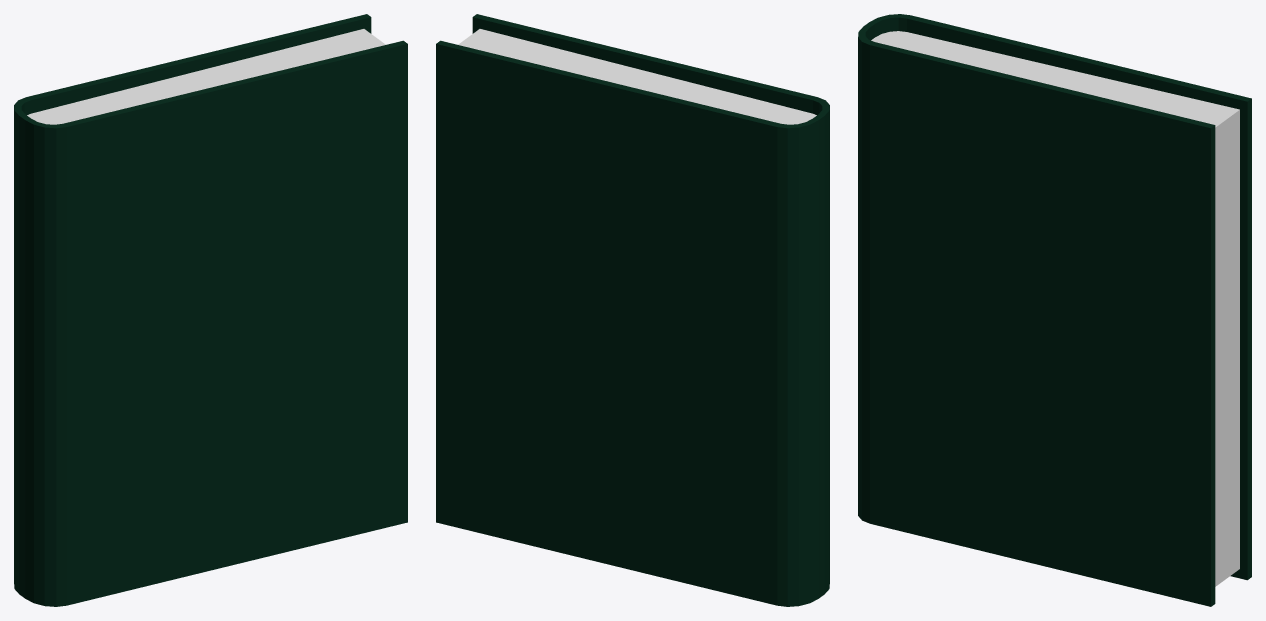
File: book_5.fbx
3 views of the same model, side by side, from view 1: azimuth 30°, elevation 25°; view 2: azimuth 150°, elevation 25°; view 3: azimuth 330°, elevation 25° (orthographic).
Visible parts, largest first — view 1: book_5_export; view 2: book_5_export; view 3: book_5_export.
Part boxes in pixels (x1,y1,x2,y2): book_5_export: [14, 14, 407, 606]; book_5_export: [436, 14, 829, 606]; book_5_export: [858, 14, 1251, 606].
Size of the model in its own units: 45.3 by 56.75 by 8.77.
